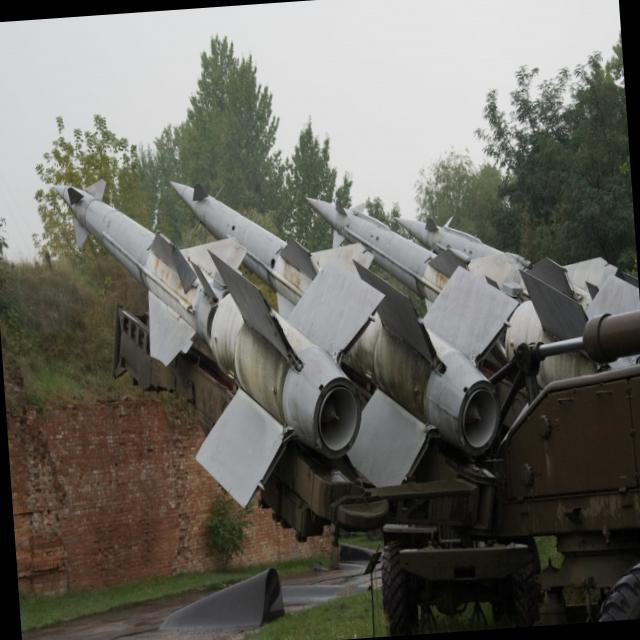rocket: (51, 147, 548, 441)
